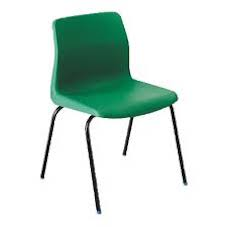chair: (33, 0, 207, 224)
